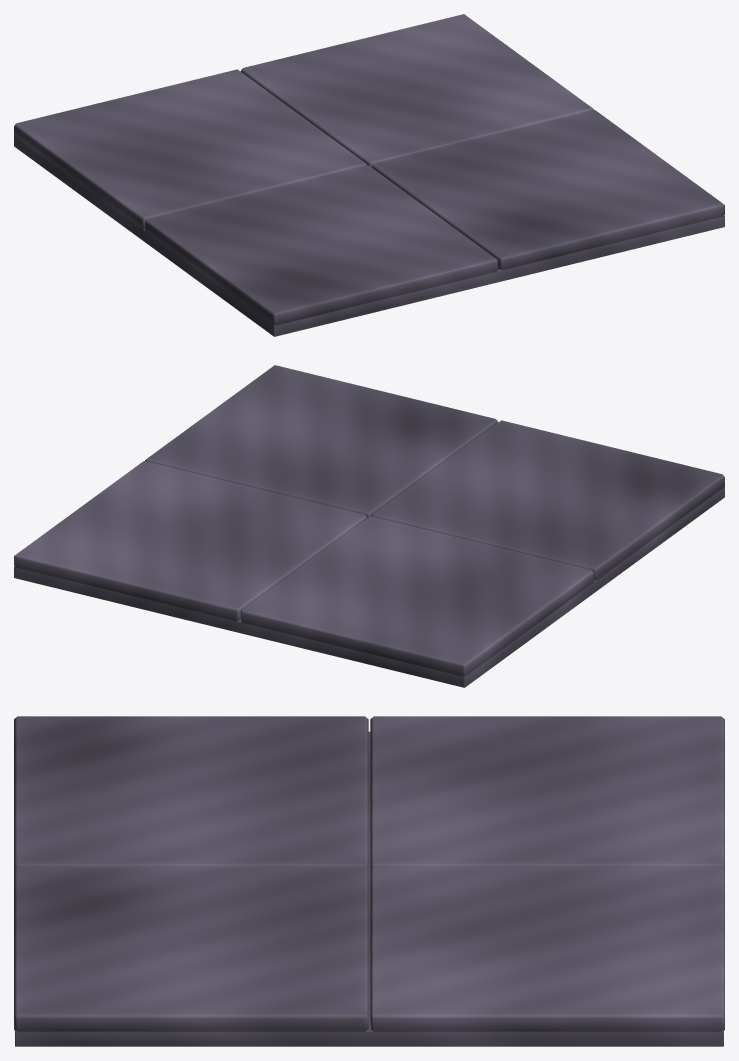
File: Furn_Dun_Floor.fbx
The picture shows the model from 3 angles, top to bottom: view 1: azimuth 30°, elevation 25°; view 2: azimuth 150°, elevation 25°; view 3: azimuth 270°, elevation 25°; orthographic projection. The views are drawn at different scales.
Parts seen in each view (by area): view 1: Furn_Dun_Floor; view 2: Furn_Dun_Floor; view 3: Furn_Dun_Floor.
Part boxes in pixels (x1=…): Furn_Dun_Floor: x1=14, y1=14, x2=724, y2=336; Furn_Dun_Floor: x1=14, y1=365, x2=724, y2=687; Furn_Dun_Floor: x1=14, y1=716, x2=724, y2=1046.
Size of the model in its own units: 2 by 0.1 by 2.
1 material, 1 textured.
